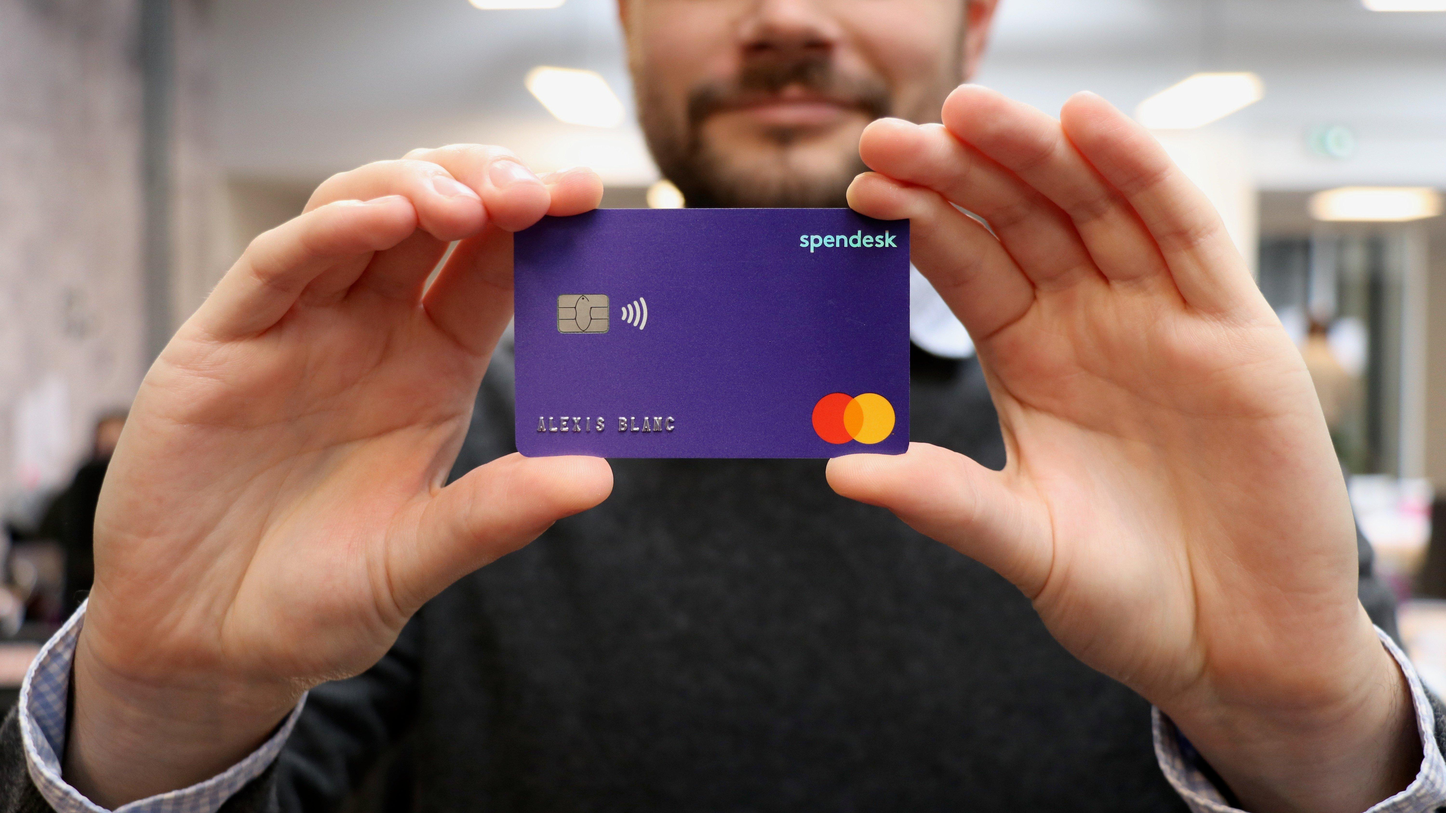Credit_card: (514, 208, 910, 458)
